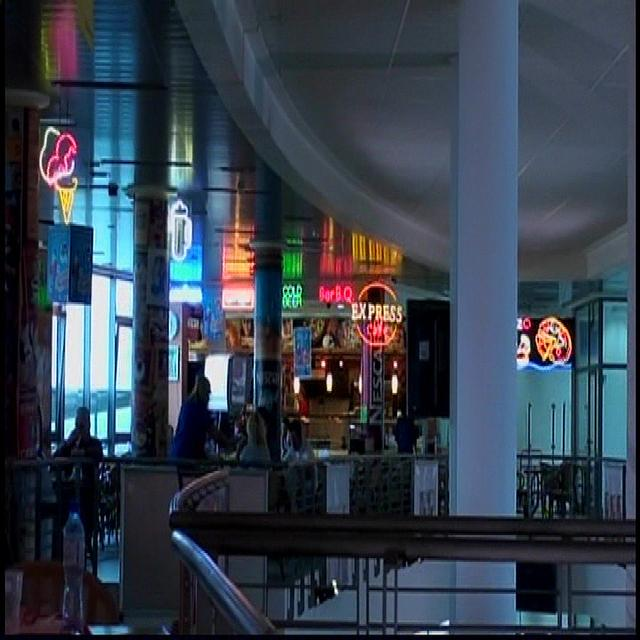chair: (224, 469, 268, 618), (10, 460, 63, 566), (288, 464, 319, 618), (516, 448, 544, 516), (541, 460, 573, 519)
dining table: (517, 453, 591, 468), (331, 449, 416, 460)
